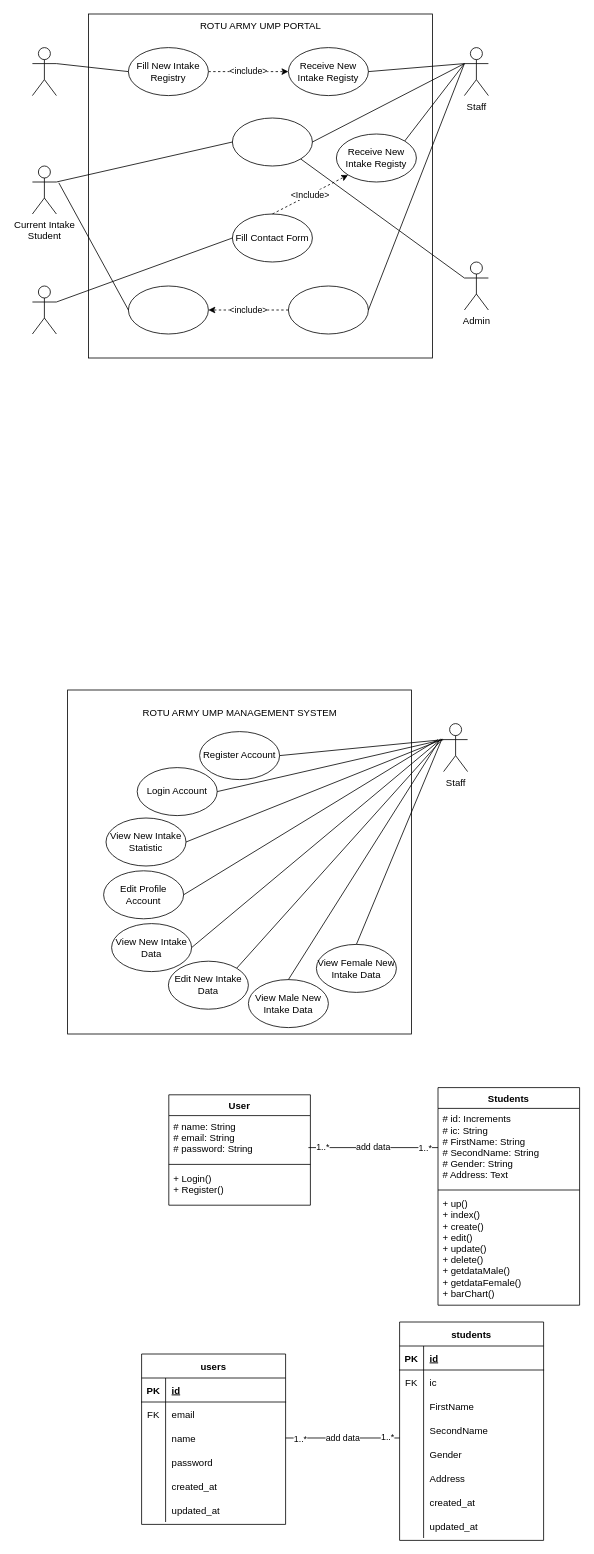
The diagram is 594 pixels wide and 1554 high, and some of its shapes have lost their labels. The shapes that lost their labels are listed below. From the top down, each one's centre as x and y in pixels, then its label:
At pixel 44 71: "New Intake Student".
At pixel 272 141: "Fill Login Form".
At pixel 44 309: "Public User".
At pixel 168 309: "Receive Uploaded File".
At pixel 328 309: "Upload File".
